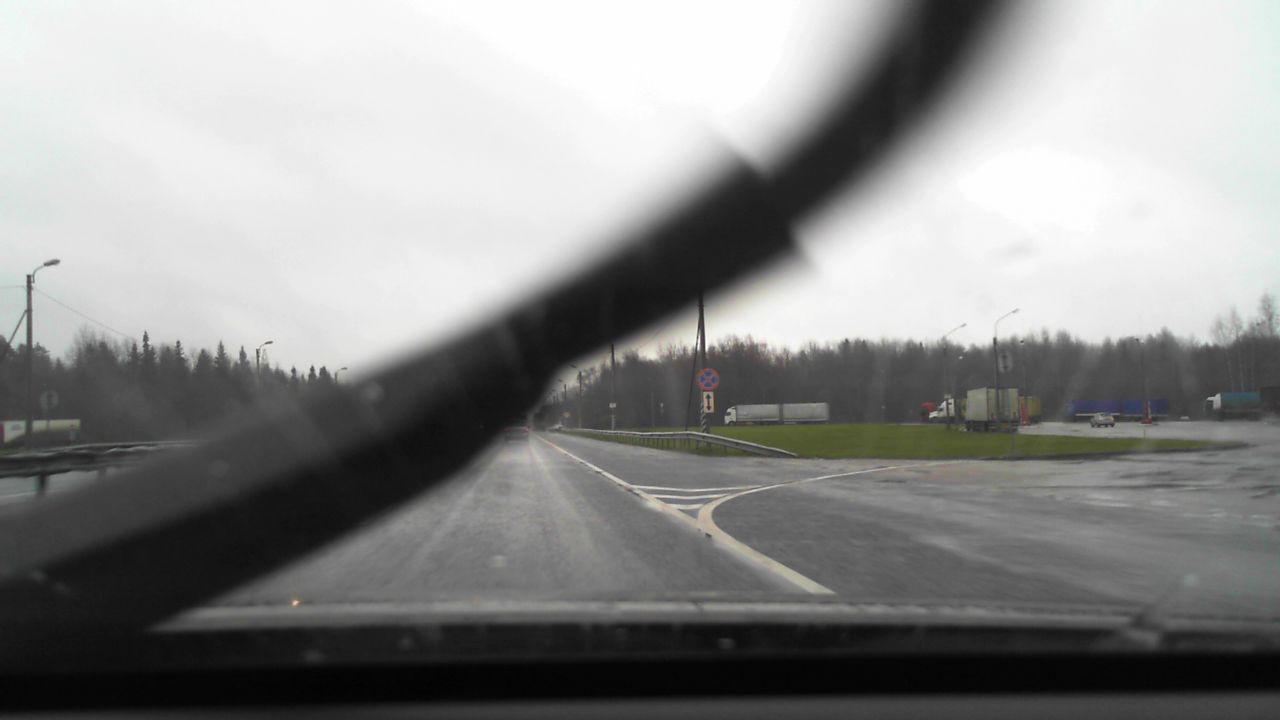No Parking: (696, 368, 719, 391)
